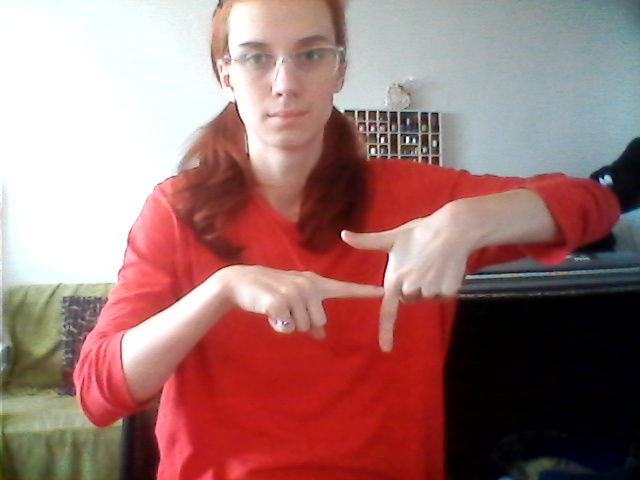f: (258, 219, 413, 358)
